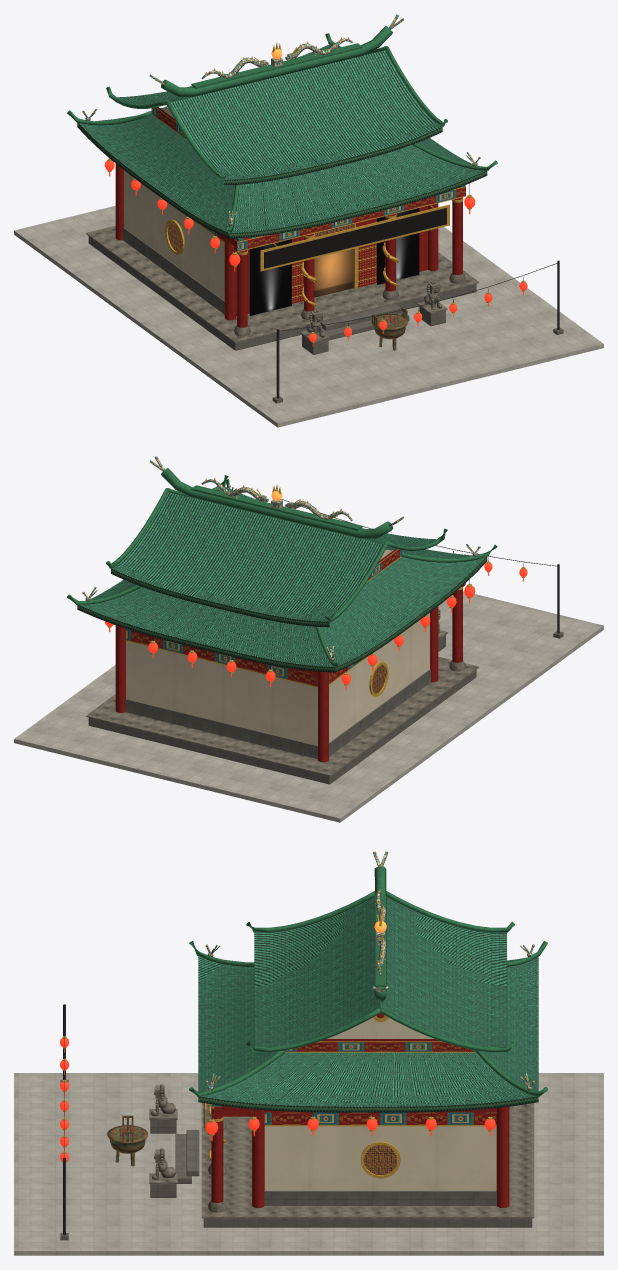
File: LM_ENV_ChineseTemple.glb
3 renders of one model, top to bottom at view 1: azimuth 30°, elevation 25°; view 2: azimuth 150°, elevation 25°; view 3: azimuth 270°, elevation 25°, orthographic. The views are drawn at different scales.
Parts seen in each view (by area): view 1: ChineseTemple | Glazed roof tiles, ChineseTemple | Plaza granite, ChineseTemple | Granite lion, ChineseTemple | Granite dark, ChineseTemple | Red lacquer, ChineseTemple | Glazed ridge, ChineseTemple | Cream render, ChineseTemple | Eave tile ends, ChineseTemple | Night wash warm, ChineseTemple | Black lacquer board, ChineseTemple | Gold leaf, ChineseTemple | Carved beam (+6 smaller); view 2: ChineseTemple | Glazed roof tiles, ChineseTemple | Plaza granite, ChineseTemple | Cream render, ChineseTemple | Granite dark, ChineseTemple | Granite lion, ChineseTemple | Glazed ridge, ChineseTemple | Eave tile ends, ChineseTemple | Red lacquer, ChineseTemple | Carved beam, ChineseTemple | Jian nian, ChineseTemple | Night lantern red, ChineseTemple | Gold leaf; view 3: ChineseTemple | Glazed roof tiles, ChineseTemple | Plaza granite, ChineseTemple | Cream render, ChineseTemple | Granite lion, ChineseTemple | Granite dark, ChineseTemple | Glazed ridge, ChineseTemple | Carved beam, ChineseTemple | Red lacquer, ChineseTemple | Eave tile ends, ChineseTemple | Night lantern red, ChineseTemple | Gold leaf, ChineseTemple | Bronze (+3 smaller).
Part boxes in pixels (bbox=[...]): ChineseTemple | Glazed roof tiles: bbox=[79, 44, 485, 232]; ChineseTemple | Plaza granite: bbox=[14, 206, 603, 427]; ChineseTemple | Granite lion: bbox=[86, 225, 479, 342]; ChineseTemple | Granite dark: bbox=[88, 227, 563, 403]; ChineseTemple | Red lacquer: bbox=[115, 107, 462, 327]; ChineseTemple | Glazed ridge: bbox=[67, 26, 497, 233]; ChineseTemple | Cream render: bbox=[124, 107, 224, 300]; ChineseTemple | Eave tile ends: bbox=[77, 122, 487, 238]; ChineseTemple | Night wash warm: bbox=[249, 208, 419, 315]; ChineseTemple | Black lacquer board: bbox=[264, 208, 446, 268]; ChineseTemple | Gold leaf: bbox=[107, 37, 525, 342]; ChineseTemple | Carved beam: bbox=[151, 107, 465, 252]; ChineseTemple | Glazed roof tiles: bbox=[79, 486, 485, 666]; ChineseTemple | Plaza granite: bbox=[14, 591, 603, 822]; ChineseTemple | Cream render: bbox=[126, 549, 429, 745]; ChineseTemple | Granite dark: bbox=[88, 631, 563, 784]; ChineseTemple | Granite lion: bbox=[86, 609, 479, 776]; ChineseTemple | Glazed ridge: bbox=[67, 468, 497, 667]; ChineseTemple | Eave tile ends: bbox=[77, 557, 487, 672]; ChineseTemple | Red lacquer: bbox=[115, 549, 465, 762]; ChineseTemple | Carved beam: bbox=[125, 549, 402, 687]; ChineseTemple | Jian nian: bbox=[82, 456, 480, 660]; ChineseTemple | Night lantern red: bbox=[105, 562, 527, 689]; ChineseTemple | Gold leaf: bbox=[107, 478, 525, 696]; ChineseTemple | Glazed roof tiles: bbox=[198, 896, 538, 1106]; ChineseTemple | Plaza granite: bbox=[14, 1073, 603, 1255]; ChineseTemple | Cream render: bbox=[264, 1017, 496, 1190]; ChineseTemple | Granite lion: bbox=[149, 1084, 534, 1218]; ChineseTemple | Granite dark: bbox=[60, 1079, 532, 1240]; ChineseTemple | Glazed ridge: bbox=[189, 866, 547, 1096]; ChineseTemple | Carved beam: bbox=[264, 1041, 496, 1126]; ChineseTemple | Red lacquer: bbox=[211, 1013, 509, 1207]; ChineseTemple | Eave tile ends: bbox=[198, 1096, 538, 1112]; ChineseTemple | Night lantern red: bbox=[60, 1038, 495, 1161]; ChineseTemple | Gold leaf: bbox=[62, 888, 492, 1178]; ChineseTemple | Bronze: bbox=[107, 1115, 147, 1166].
Bounding box in the file's own units: 20 × 13.24 × 28.
Materials: 24 (16 with a texture image).
